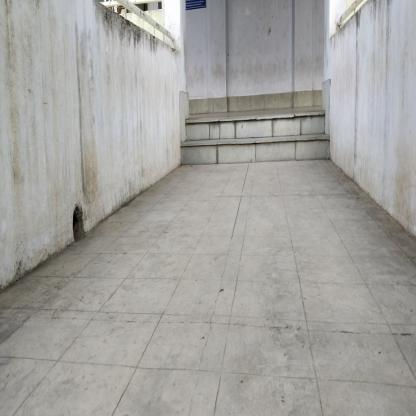stairs: (187, 118, 332, 170)
